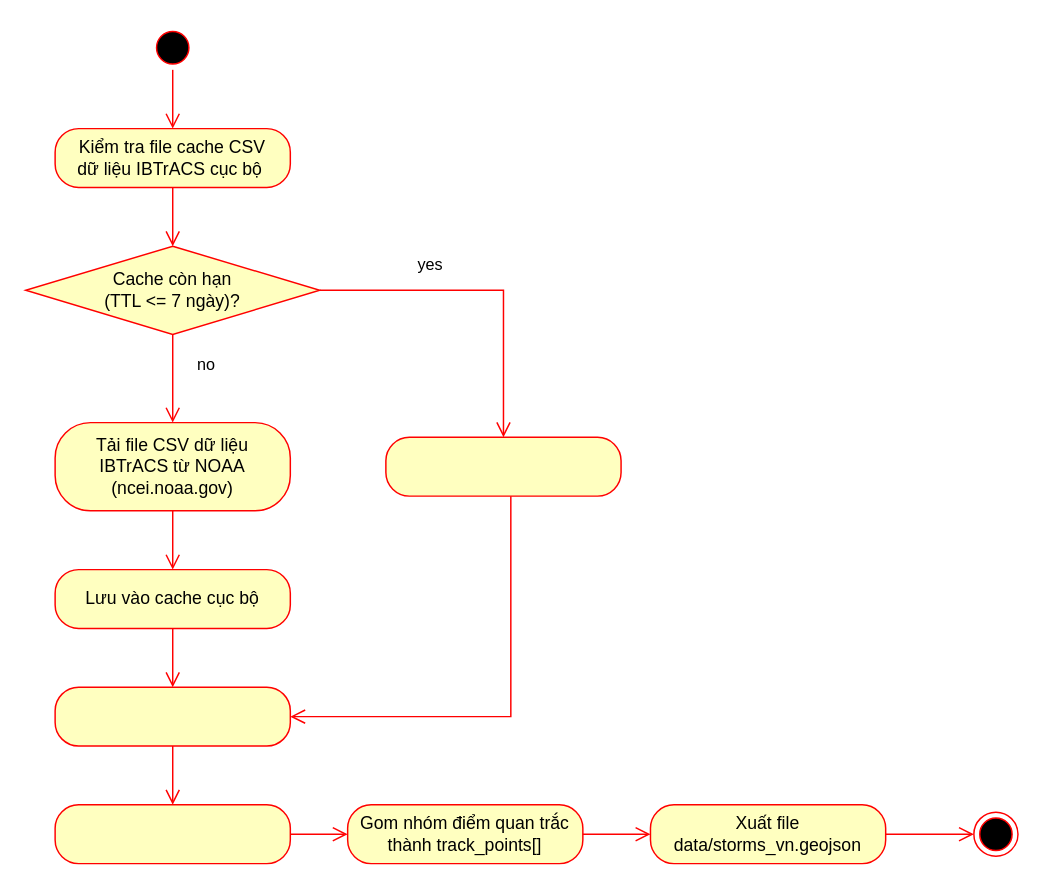
The diagram is 1044 pixels wide and 889 high, and some of its shapes have lost their labels. The centre of each missing label's shape, as x and y in pixels:
"Lọc tọa độ vùng biển VN" belongs at [172,716].
"Phân loại cấp bão" belongs at [172,833].
"Đọc file CSV từ cache" belongs at [502,466].
